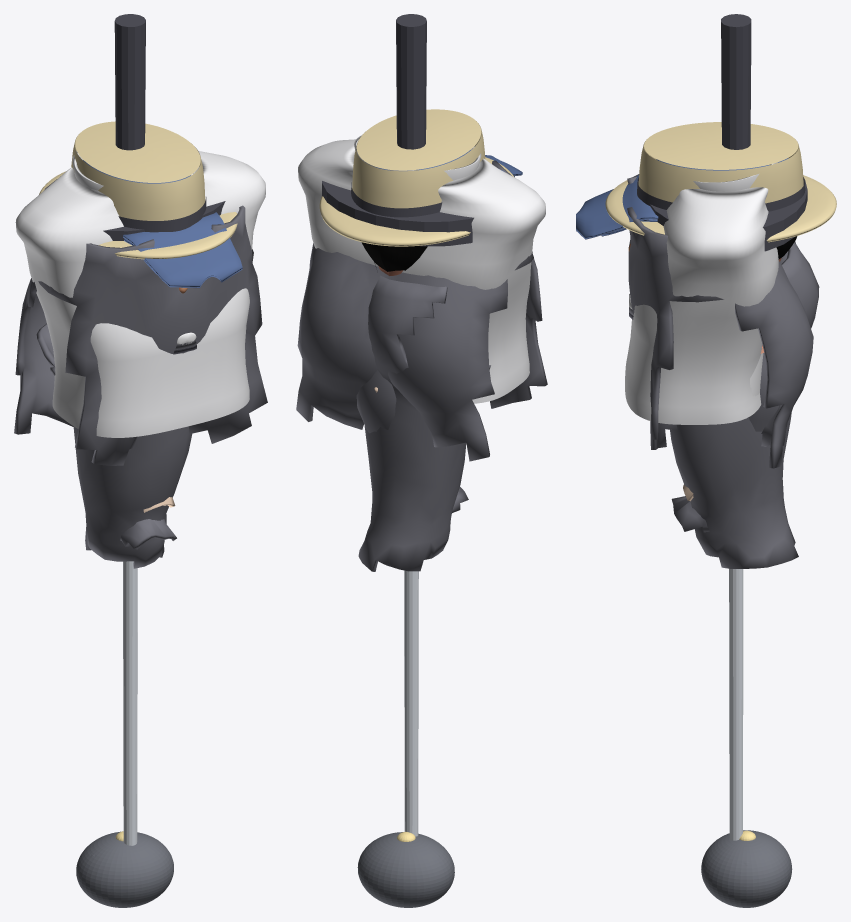
File: hero_golf.glb
3 views of the same model, side by side, from view 1: azimuth 30°, elevation 25°; view 2: azimuth 150°, elevation 25°; view 3: azimuth 270°, elevation 25° (orthographic).
Parts seen in each view (by area): view 1: torso_shirt, pelvis, thigh, straw, club_driver, straw_top, club_shaft, cap_brim, club_grip, shin, belt_strap; view 2: pelvis, torso_shirt, thigh, straw, club_driver, straw_top, club_grip, club_shaft, belt_strap, shin, mpfb_hair; view 3: torso_shirt, thigh, pelvis, straw, club_driver, straw_top, club_grip, club_shaft, cap_brim, shin, belt_strap, collar.
Part boxes in pixels (x1,y1,x2,y2): torso_shirt: [15, 151, 265, 437]; pelvis: [14, 205, 267, 465]; thigh: [36, 324, 192, 568]; straw: [39, 134, 237, 259]; club_driver: [76, 831, 173, 907]; straw_top: [75, 121, 200, 182]; club_shaft: [123, 561, 137, 845]; cap_brim: [123, 212, 242, 288]; club_grip: [114, 14, 145, 150]; shin: [120, 519, 176, 549]; belt_strap: [44, 179, 225, 240]; pelvis: [296, 160, 547, 461]; torso_shirt: [298, 139, 545, 403]; thigh: [358, 275, 490, 571]; straw: [319, 121, 514, 246]; club_driver: [357, 832, 454, 907]; straw_top: [356, 109, 481, 170]; club_grip: [396, 14, 426, 149]; club_shaft: [404, 570, 418, 836]; belt_strap: [322, 181, 473, 246]; shin: [356, 370, 468, 512]; mpfb_hair: [361, 242, 427, 271]; torso_shirt: [625, 187, 778, 424]; thigh: [670, 241, 819, 568]; pelvis: [627, 174, 813, 468]; straw: [605, 139, 836, 242]; club_driver: [701, 830, 792, 907]; straw_top: [644, 122, 798, 169]; club_grip: [721, 14, 751, 149]; club_shaft: [729, 568, 743, 840]; cap_brim: [576, 175, 658, 239]; shin: [671, 353, 791, 532]; belt_strap: [650, 179, 807, 251]; collar: [693, 162, 777, 191].
Bounding box in the file's own units: 0.516 × 1.87 × 0.5014.
Materials: 40 (28 with a texture image).
